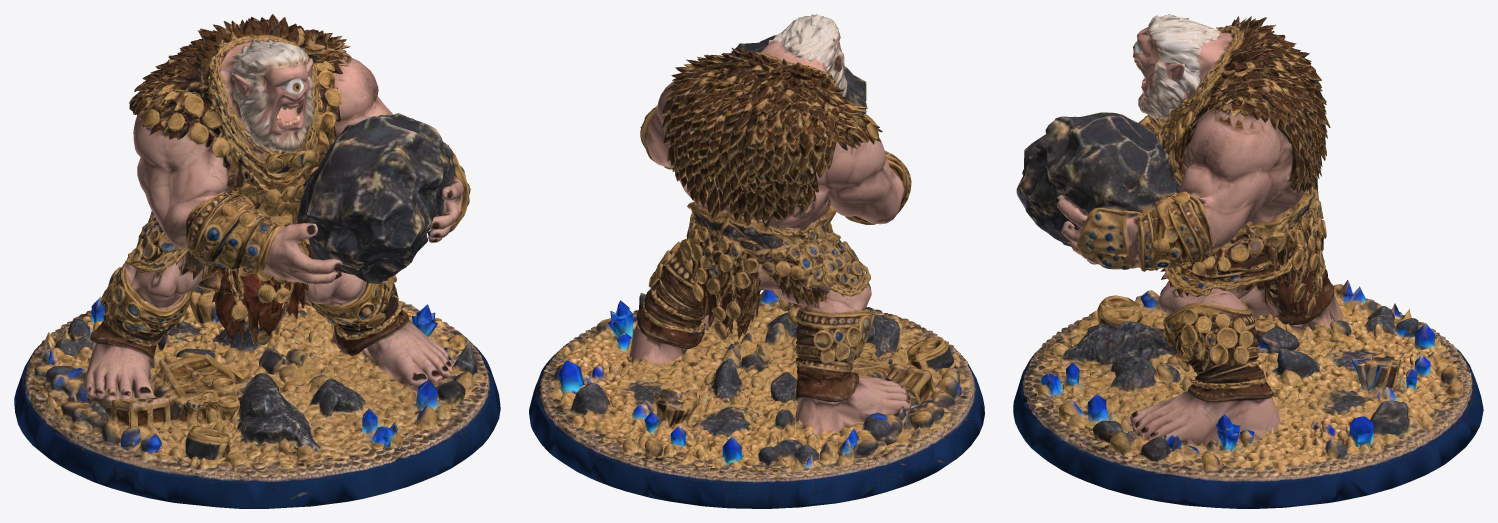
The model's file is cyclops.glb.
3 views of the same model, side by side, from view 1: azimuth 30°, elevation 25°; view 2: azimuth 150°, elevation 25°; view 3: azimuth 270°, elevation 25° (orthographic). The views are drawn at different scales.
Size of the model in its own units: 1.9 by 1.71 by 1.9.
1 material, 1 textured.
